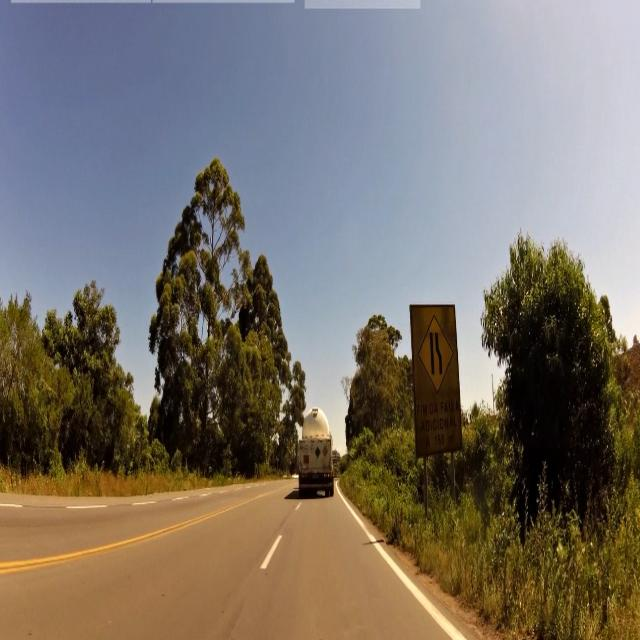A-21c: (420, 316, 454, 394)
